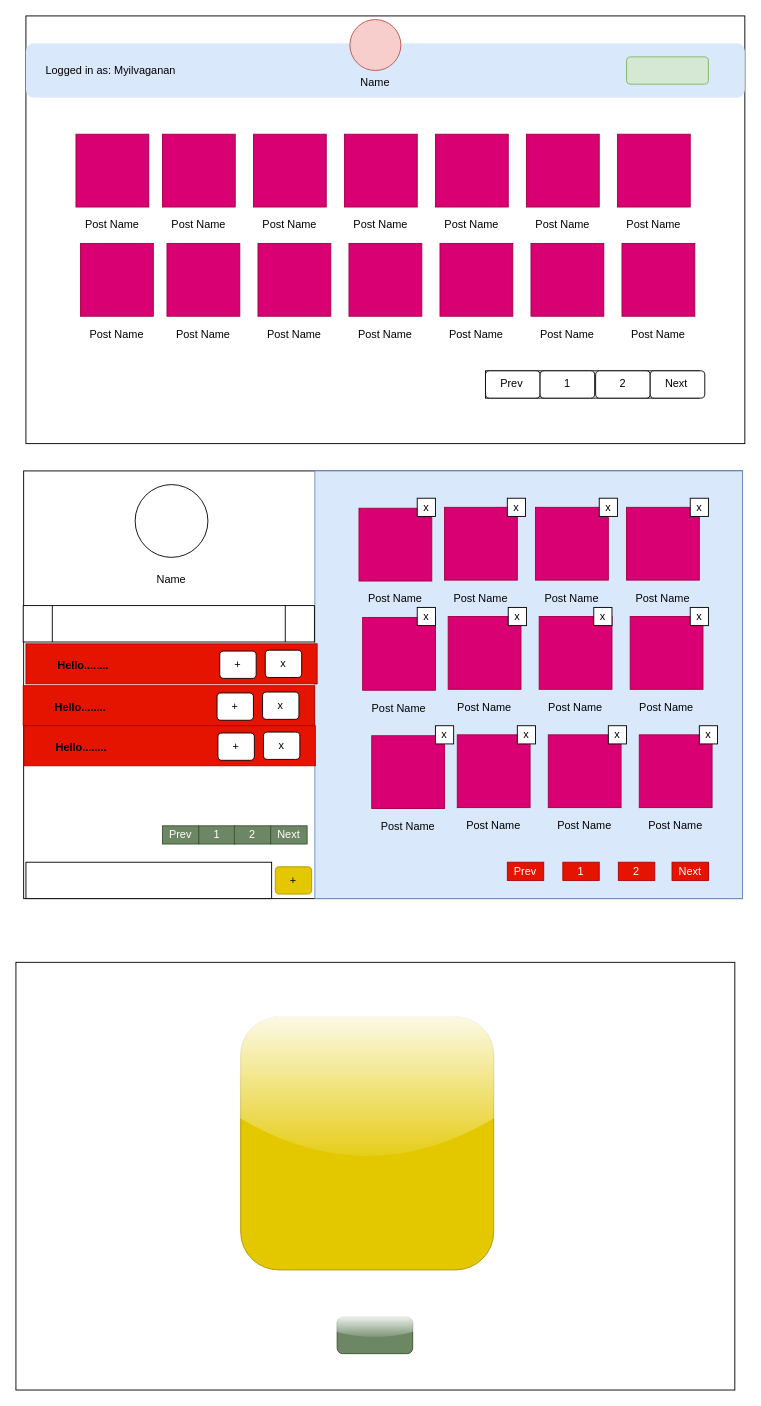
This 761x1406 diagram has some shape labels left out. Each missing label, with the centre of its shape:
"CREATE" goes at point (374, 1335).
"Create Post" goes at point (667, 70).
"TODO LIST" goes at point (168, 623).
"Write Something.........." goes at point (148, 880).
